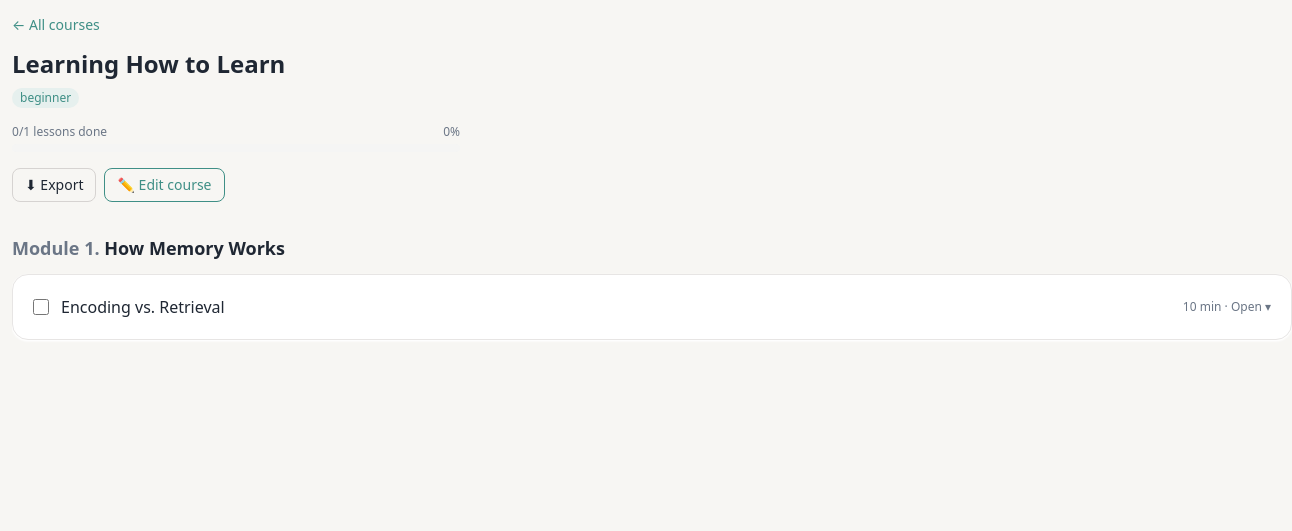
Test case: CourseDetail — flashcard decks (M2 remainder) › shows a Review deck CTA with the due chip above the browsable grid
This screenshot has width=1292, height=531.
Step 1. Click the button "Encoding vs. Retrieval 10 min · Open ▾" → (143, 307), box [61,295,1271,319]
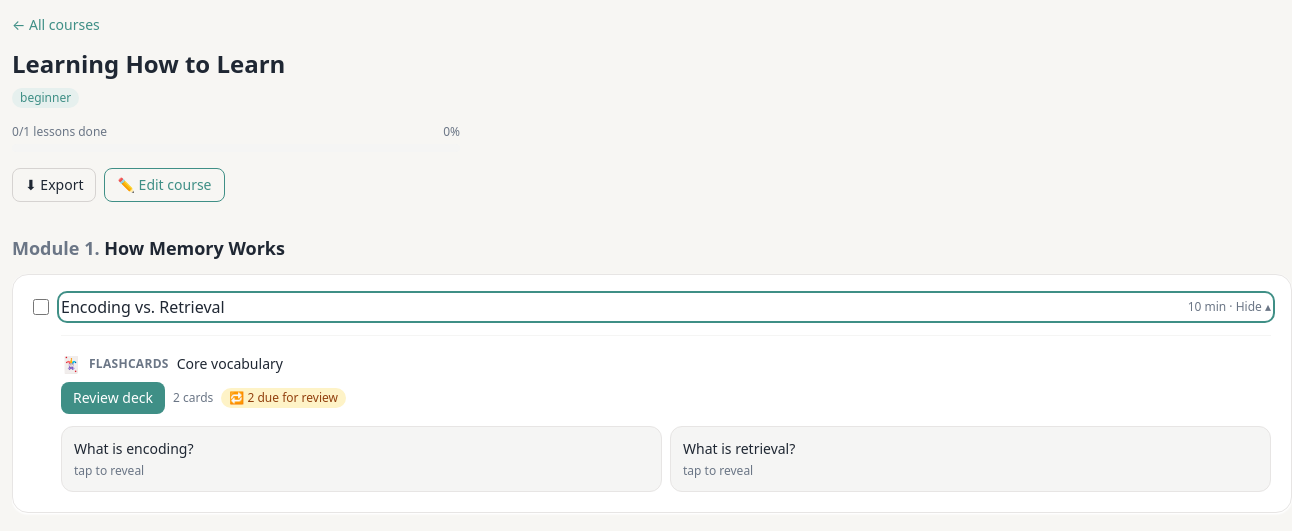
Result: the text "🔁 2 due for review" is shown at [221,388,346,408]
Result: the text "2 cards" is shown at [173,390,213,406]
Result: the text "What is encoding?" is shown at [74,439,194,458]
